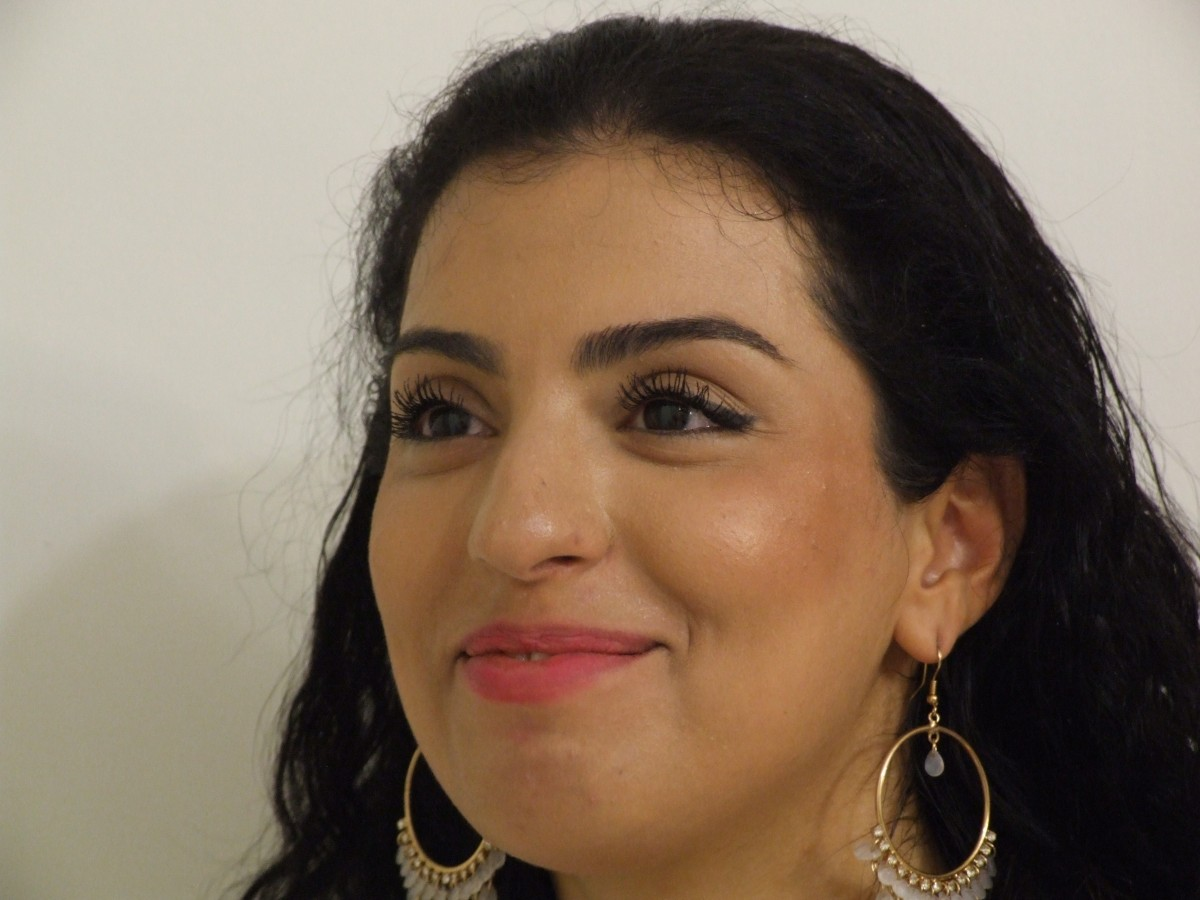neo: (561, 526, 596, 560), (531, 467, 556, 499), (611, 763, 633, 787)
occhiaia: (600, 431, 784, 485), (378, 448, 498, 494)
